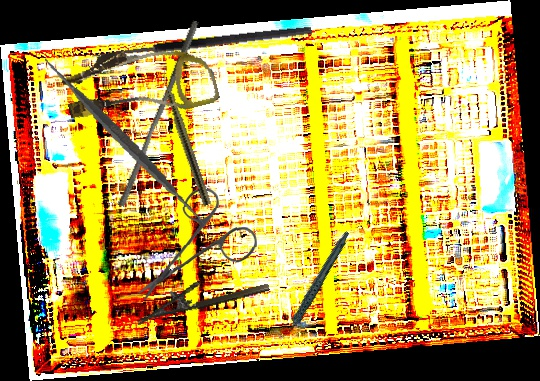Cannula: (58, 30, 221, 137)
Handpiece: (260, 230, 369, 342), (156, 68, 214, 207)
Hook Surgical: (91, 24, 314, 73)
Iris Scissors: (136, 185, 260, 306)
Needle Holder: (131, 264, 271, 326)
Pusher: (117, 17, 200, 210)
Spatula Surgical: (28, 46, 222, 239)
